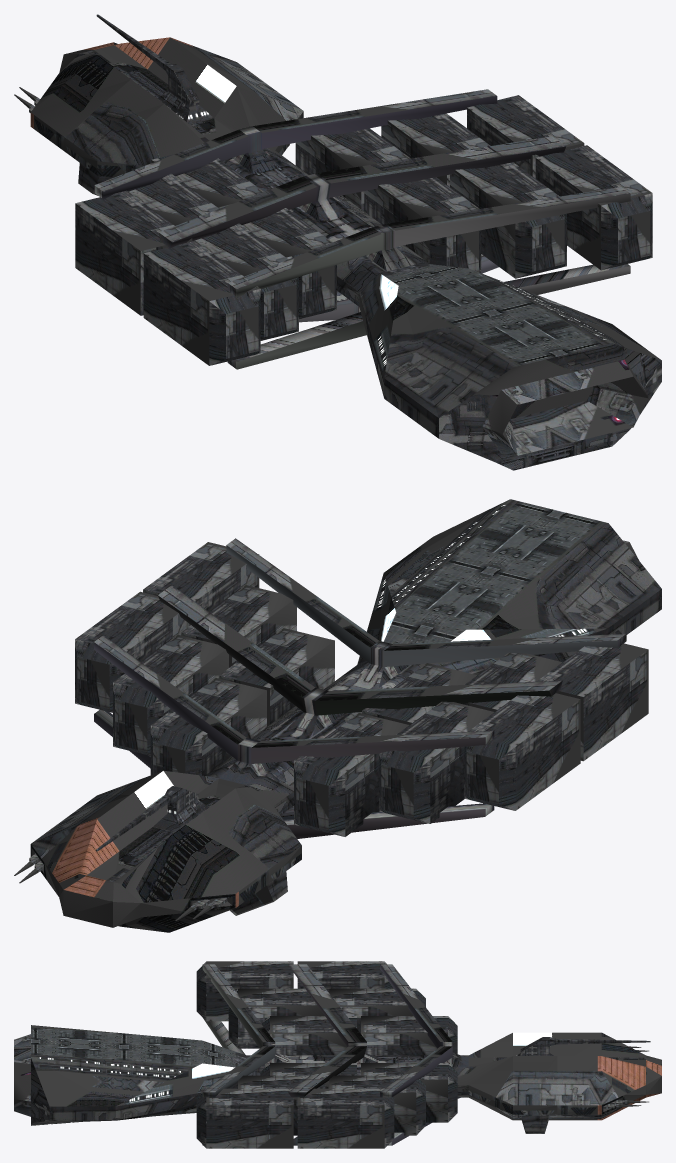
Rendered from ts1_modb_prototype.fbx.
The picture shows the model from 3 angles, top to bottom: view 1: azimuth 30°, elevation 25°; view 2: azimuth 150°, elevation 25°; view 3: azimuth 270°, elevation 25°; orthographic projection. The views are drawn at different scales.
Parts seen in each view (by area): view 1: ts1_modb_prototype; view 2: ts1_modb_prototype; view 3: ts1_modb_prototype.
Part boxes in pixels (x1,y1,x2,y2): ts1_modb_prototype: (14, 14, 661, 470); ts1_modb_prototype: (14, 499, 661, 932); ts1_modb_prototype: (14, 961, 661, 1148).
Size of the model in its own units: 164 by 45.86 by 313.
Materials: 1 (1 with a texture image).
